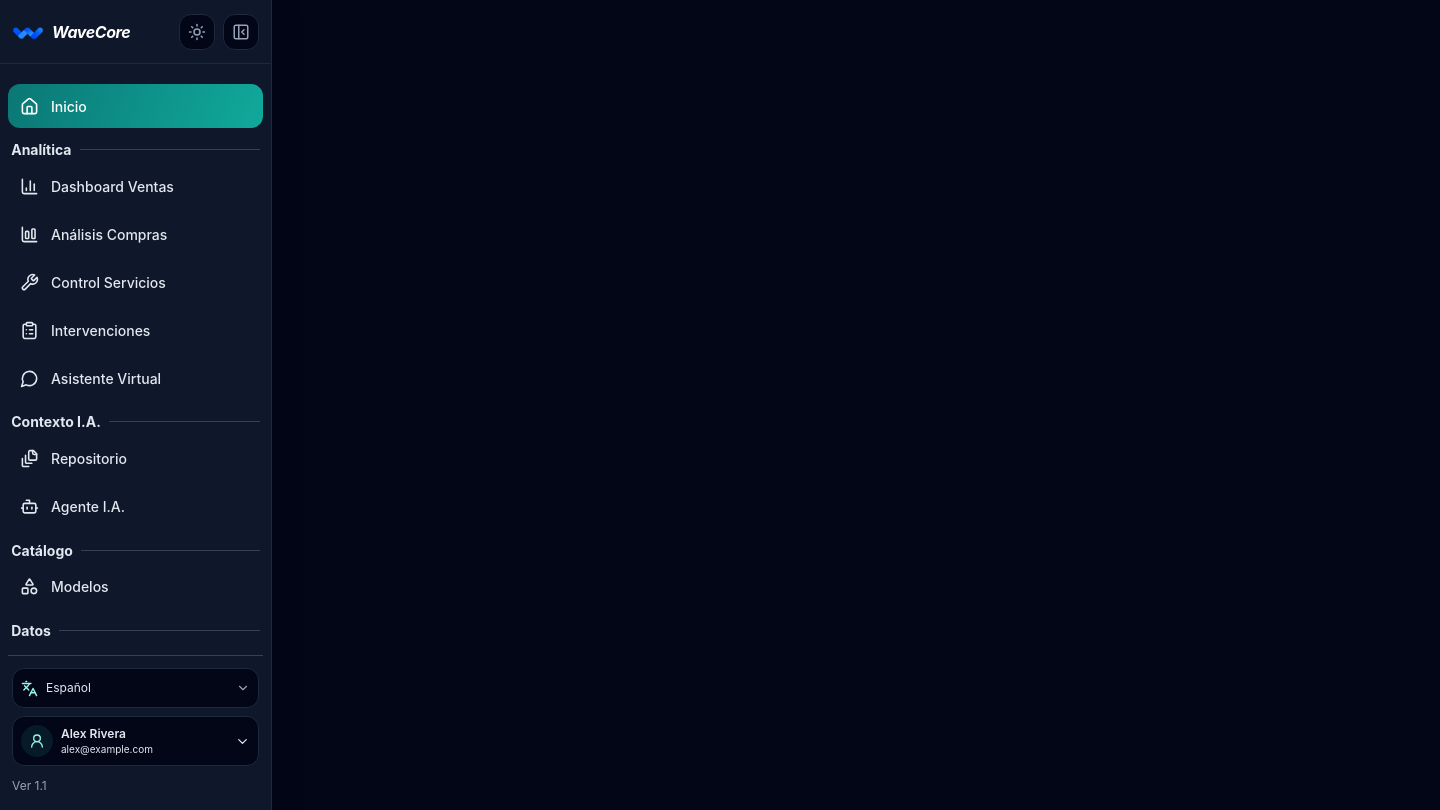
AppShell › renders the navigation, user identity, and interactive menu settings
The width and height of the screenshot is (1440, 810).
Expected: the navigation bar named "Navegación principal" is shown, [0,84,271,655]
Expected: the text "Analítica" is shown, [11,139,72,160]
Click the button with test id "desktop-menu-toggle" at {"x": 241, "y": 32}, box [223,14,259,50]
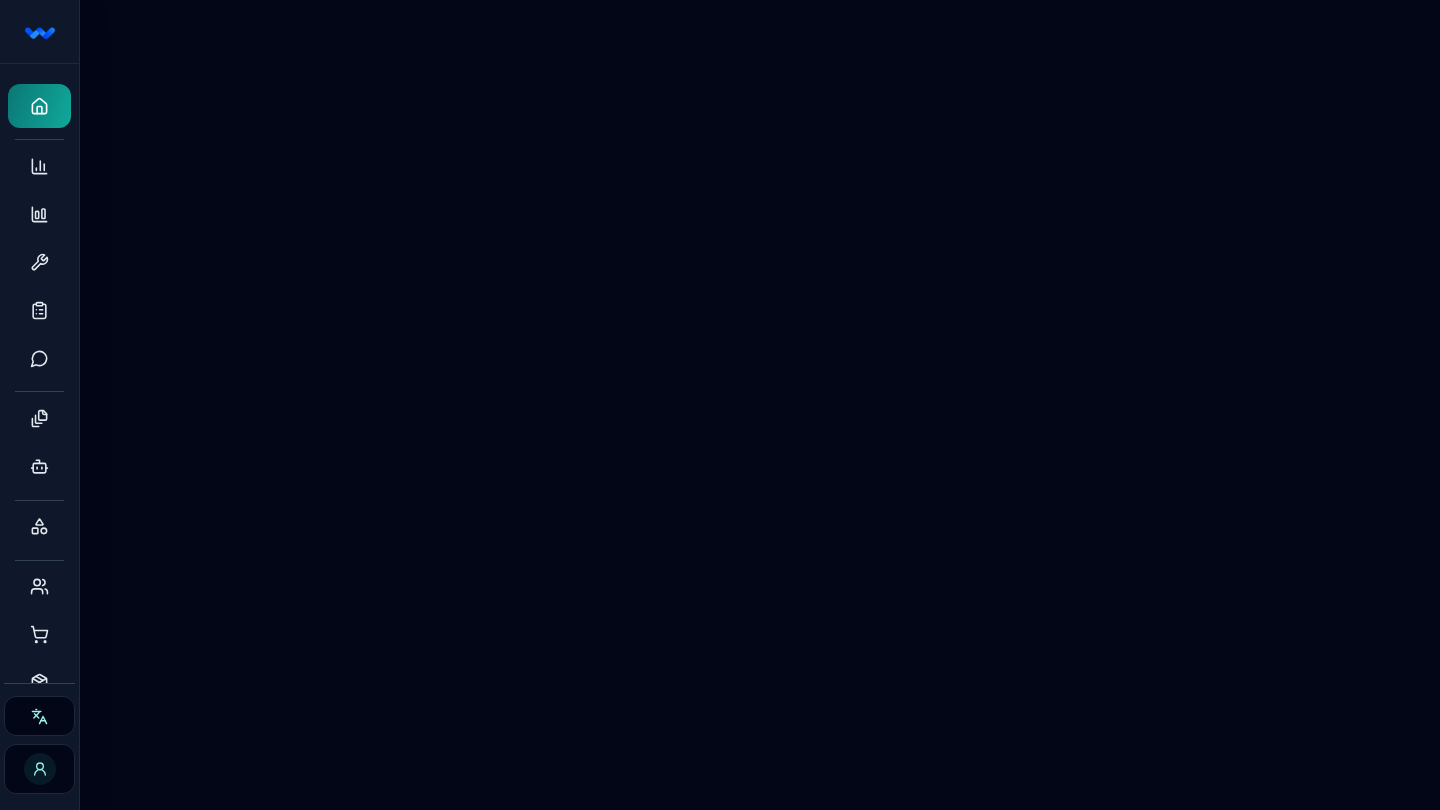
Expected: the button with test id "desktop-theme-toggle" is gone
Click the button with test id "desktop-brand-toggle" at {"x": 40, "y": 32}, box [24,16,56,48]
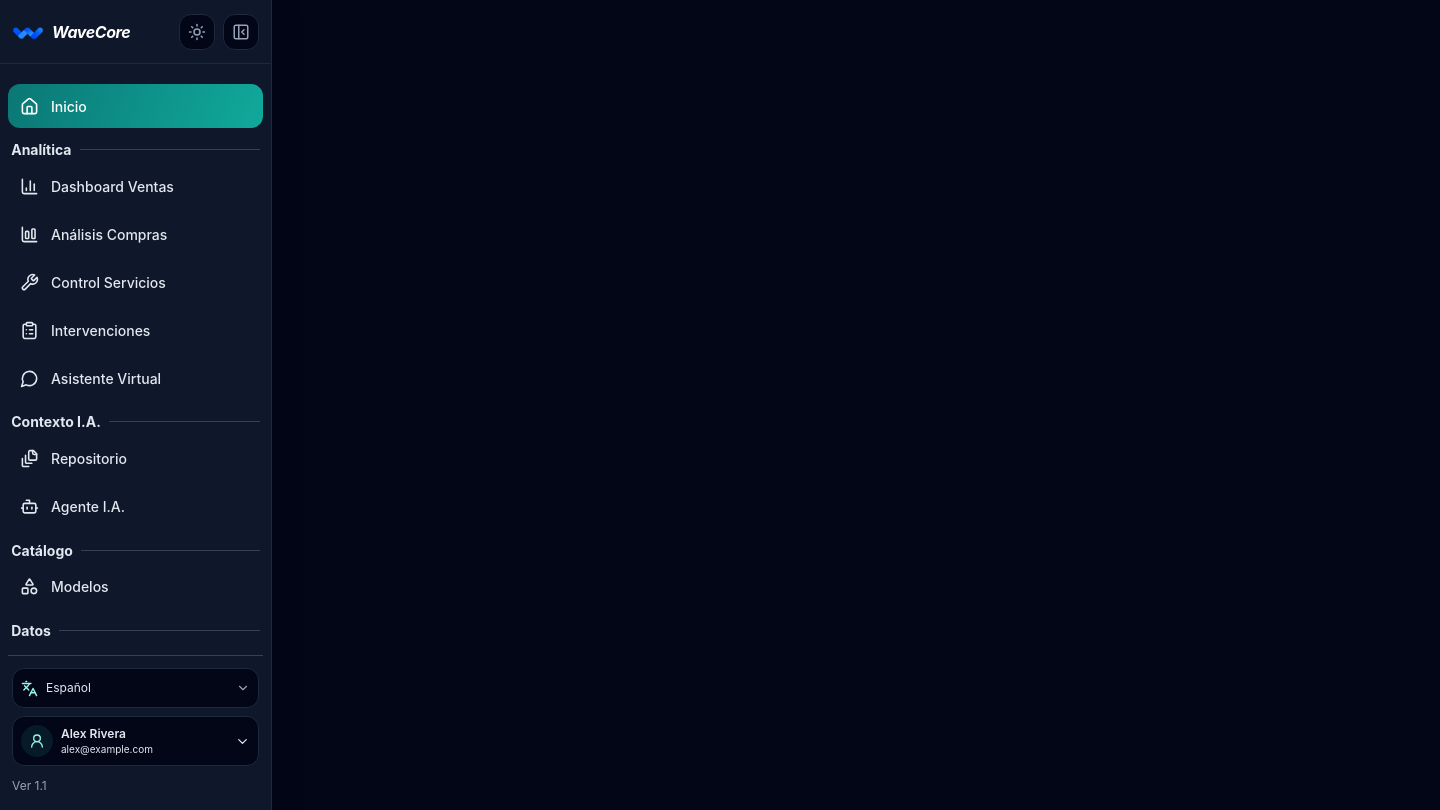
Expected: the button with test id "desktop-theme-toggle" is shown
Expected: the button with test id "desktop-menu-toggle" is shown, [223,14,259,50]
Click the button named "Cambiar a modo claro" at {"x": 197, "y": 32}, box [179,14,215,50]
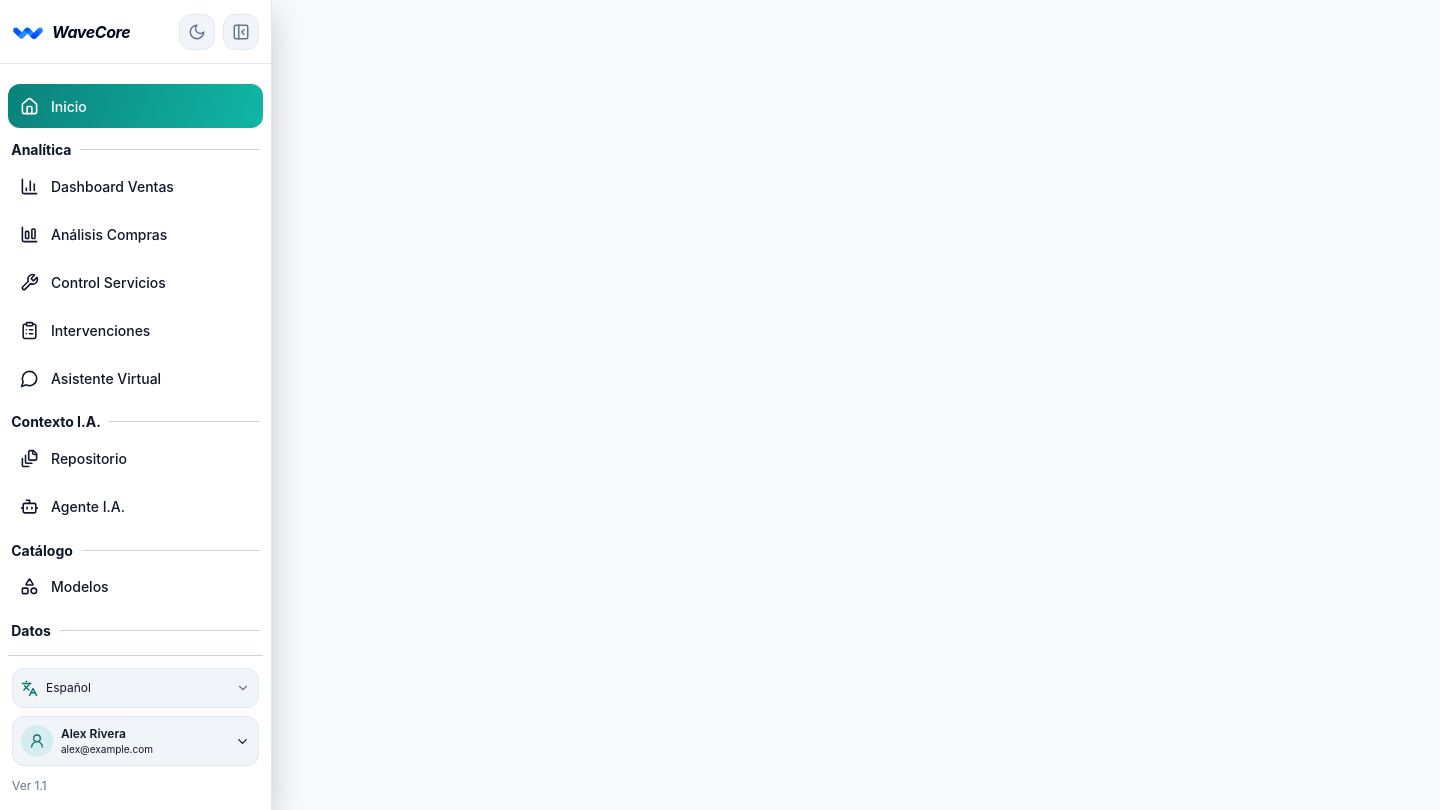
Click the button named "Cambiar a modo oscuro" at {"x": 197, "y": 32}, box [179,14,215,50]
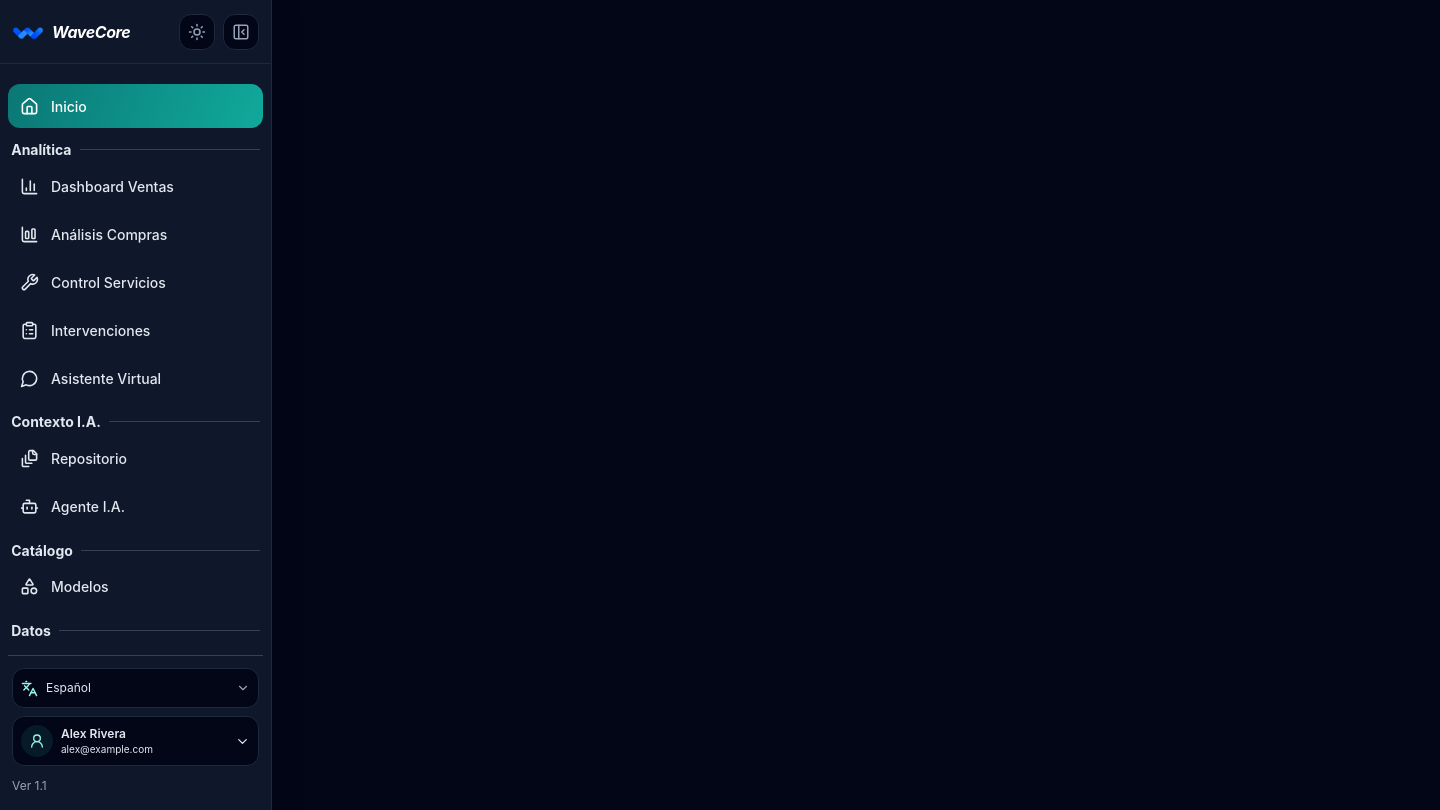
Click the button named "Idioma" at {"x": 136, "y": 688}, box [13,669,258,707]
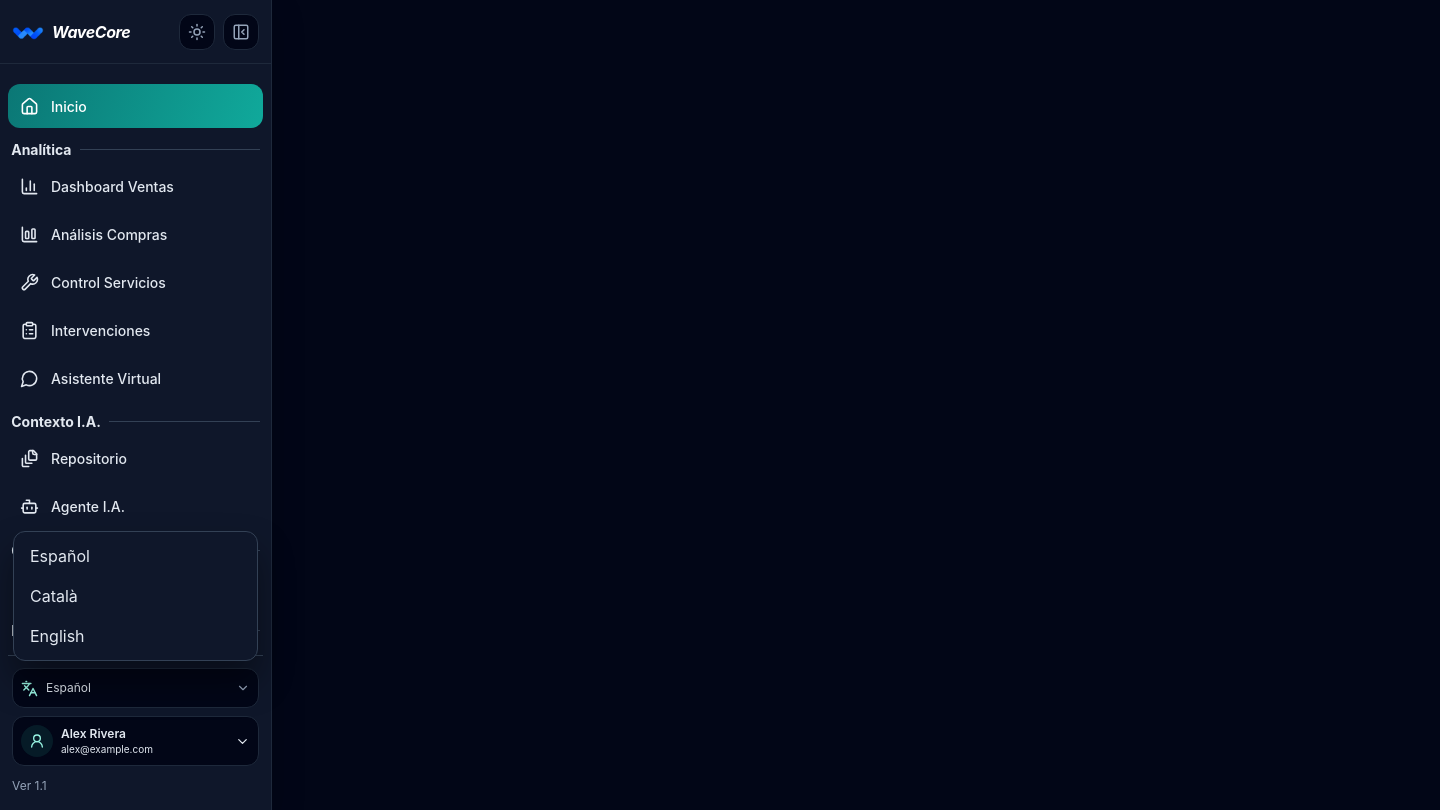
Expected: the list named "Idioma" is shown, [13,531,258,661]
Click the option "English" at {"x": 136, "y": 636}, box [18,616,253,656]
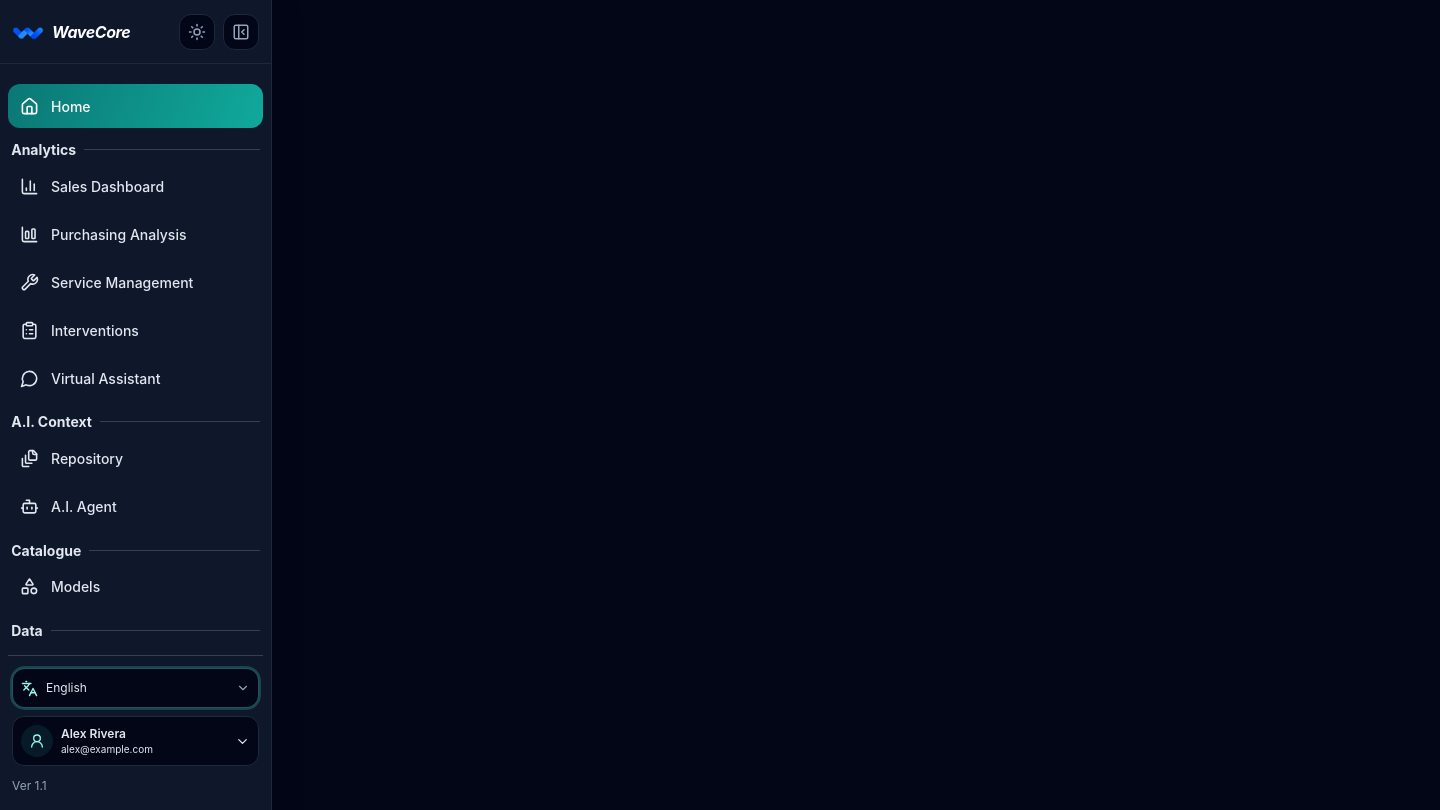
Expected: the list "Idioma" is gone
